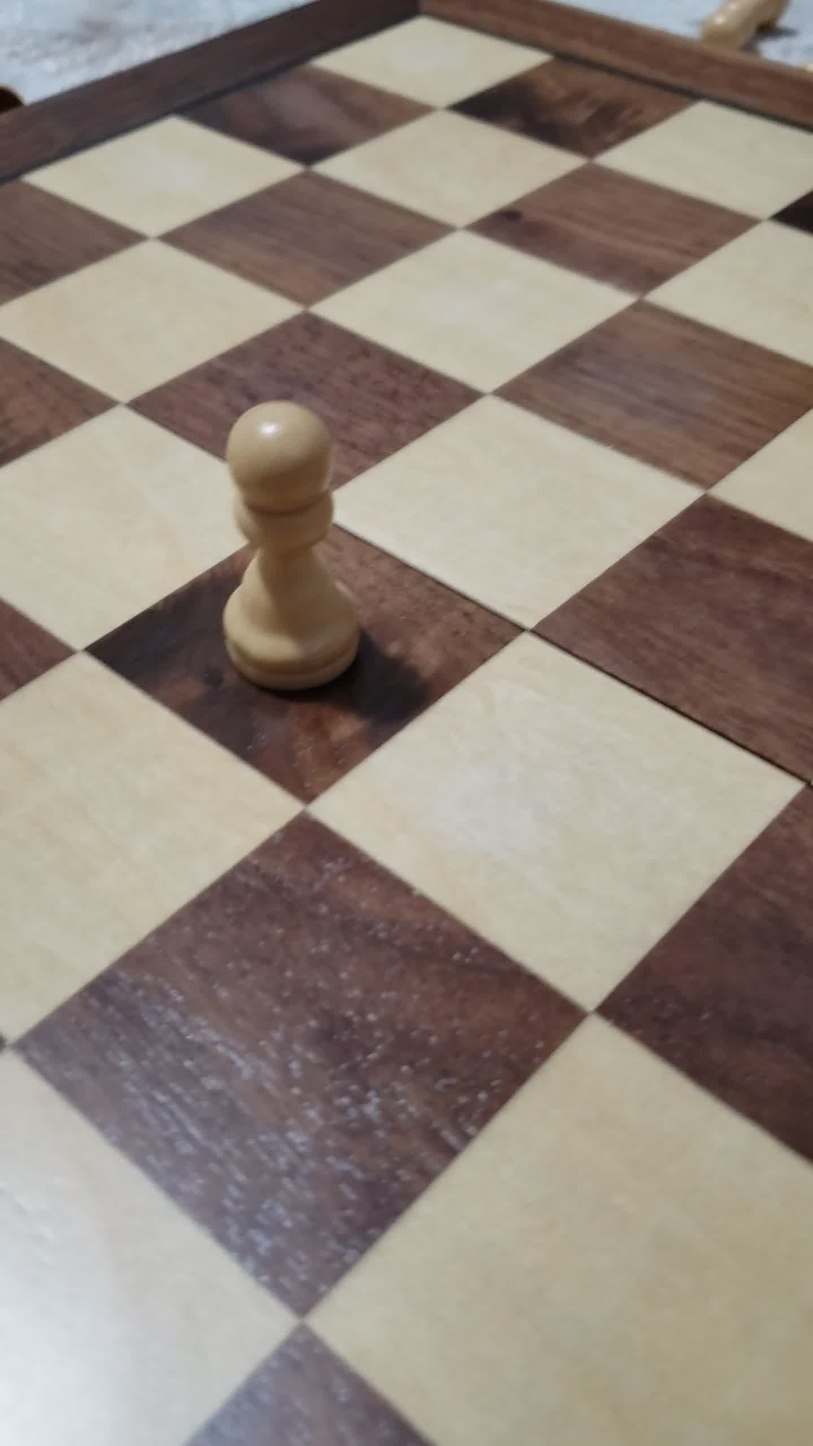white-pawn: (198, 382, 376, 732)
